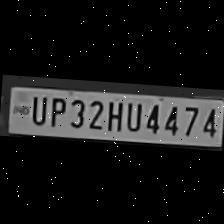2: (85, 95, 105, 129)
3: (65, 94, 85, 128)
4: (197, 104, 220, 136), (141, 98, 161, 132), (160, 100, 180, 134)
7: (179, 101, 198, 135)
H: (104, 96, 124, 130)
P: (44, 92, 66, 126)
U: (27, 91, 46, 124), (124, 98, 142, 131)
